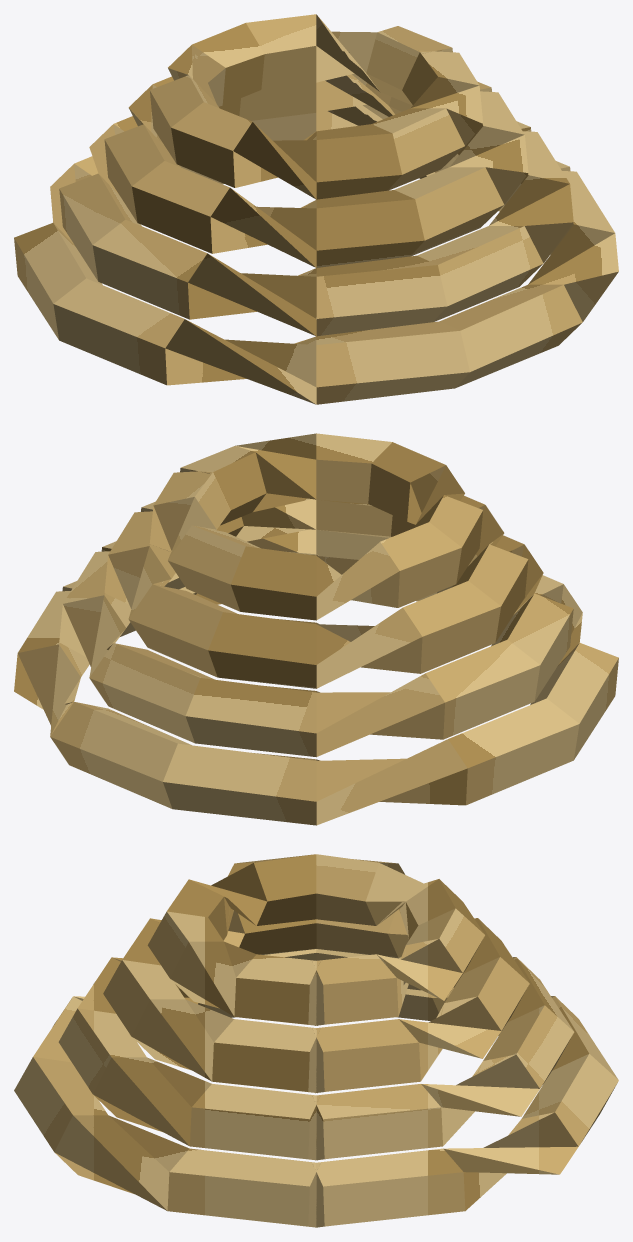
File: rope_coil.glb
3 views of the same model, one above another, from view 1: azimuth 30°, elevation 25°; view 2: azimuth 150°, elevation 25°; view 3: azimuth 270°, elevation 25° (orthographic).
Parts seen in each view (by area): view 1: rope_coil; view 2: rope_coil; view 3: rope_coil.
Part boxes in pixels (left/top/right/bottom): rope_coil: left=14, top=14, right=618, bottom=404; rope_coil: left=14, top=433, right=618, bottom=825; rope_coil: left=14, top=854, right=618, bottom=1227.
Bounding box in the file's own units: 0.6698 × 0.259 × 0.679.
1 material, 1 textured.
